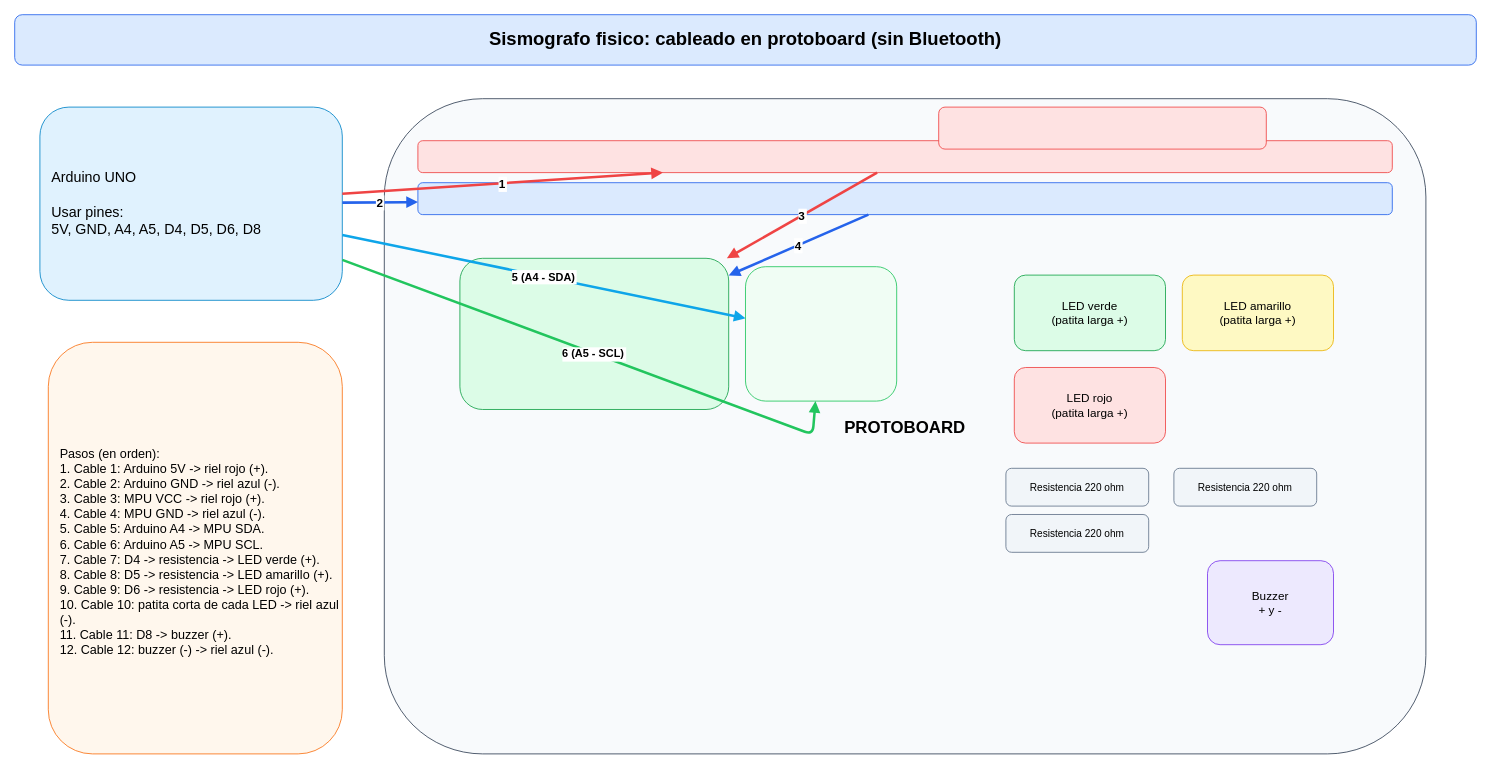
The diagram is 1491 pixels wide and 769 high, and some of its shapes have lost their labels. The shapes that lost their labels are listed below. From the top down, each one's box as (x1, y1, x2, y2) in pixels, then its label:
(938, 106, 1266, 149): NO conectar ahora: HC-05 a RX/TX (0 y 1).
(417, 140, 1392, 173): Riel + (rojo)
(417, 182, 1392, 215): Riel - (azul)
(459, 257, 729, 410): MPU6050 (colocalo en un extremo de la protoboard)
(745, 266, 897, 401): Pines del MPU6050: VCC GND SDA SCL
